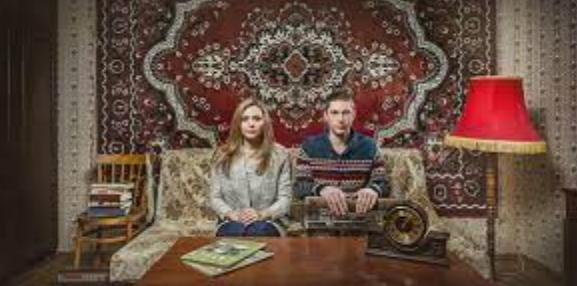carpet: (98, 0, 494, 215)
